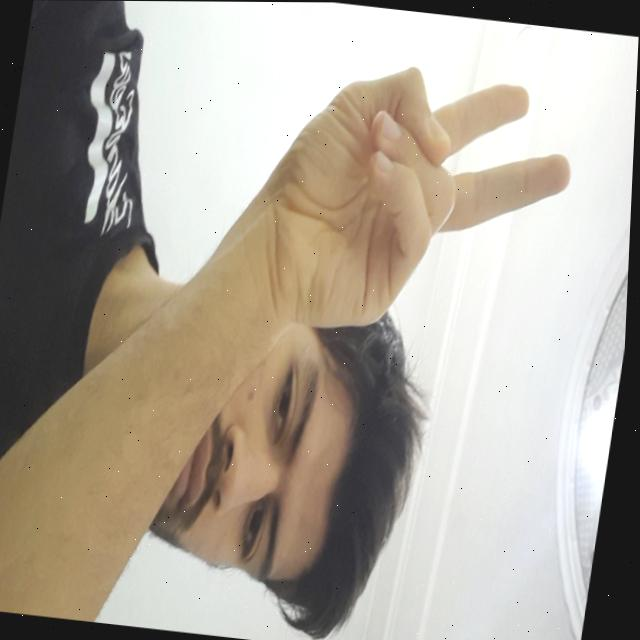Head: (83, 256, 452, 640)
Two: (222, 47, 586, 363)
